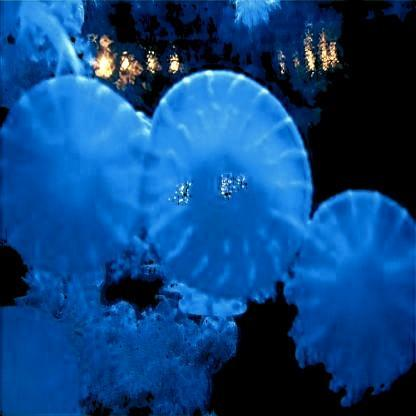Fish: (138, 73, 312, 311), (2, 79, 155, 282), (296, 193, 415, 399), (4, 282, 113, 413), (0, 3, 87, 93), (109, 318, 183, 406), (194, 311, 238, 375), (153, 295, 190, 352), (178, 360, 216, 410), (235, 2, 283, 32)
